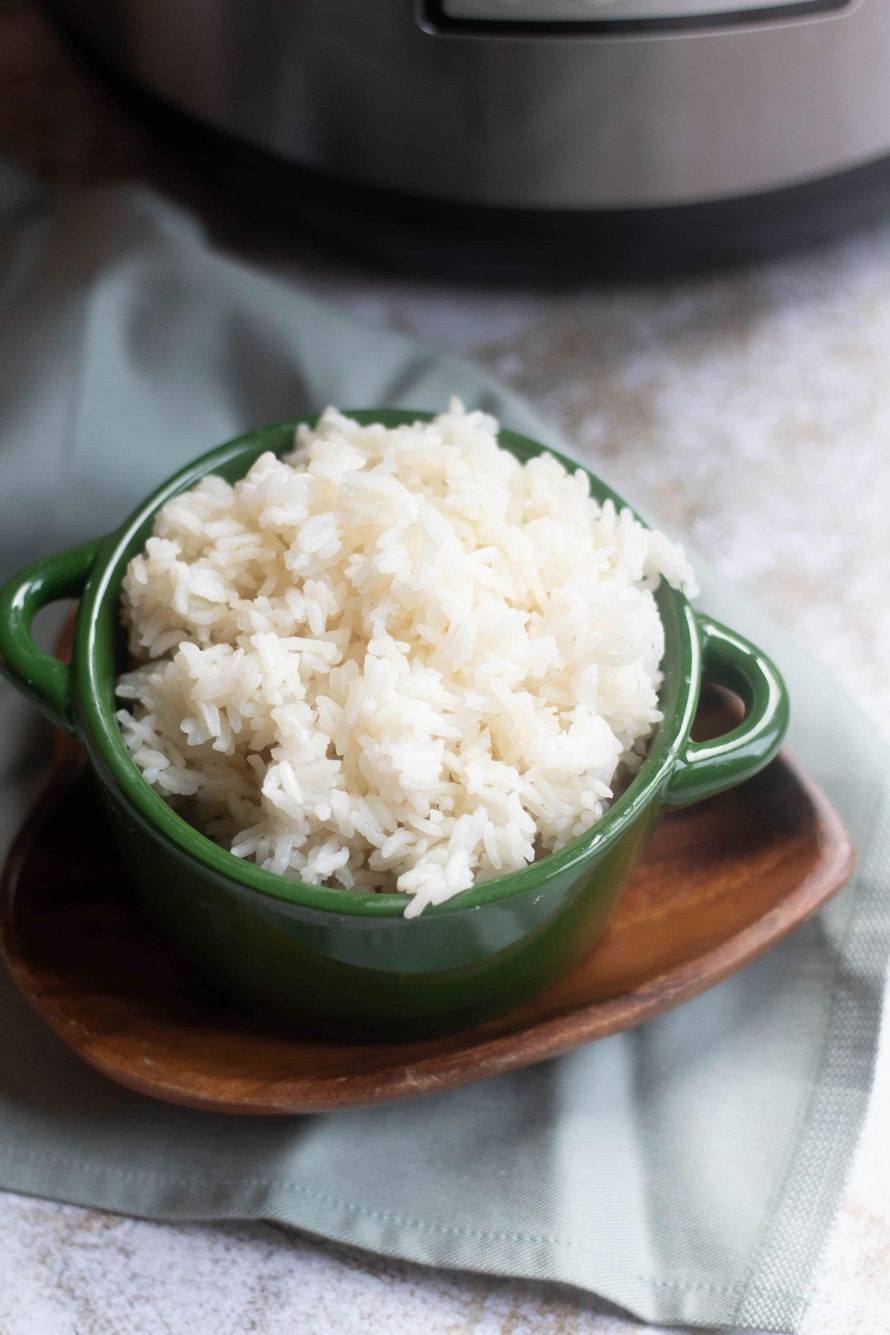WhiteRice: (112, 401, 678, 909)
